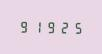five: (70, 20, 82, 34)
nine: (44, 19, 56, 34), (18, 19, 30, 33)
one: (31, 19, 43, 33)
two: (57, 20, 69, 34)
